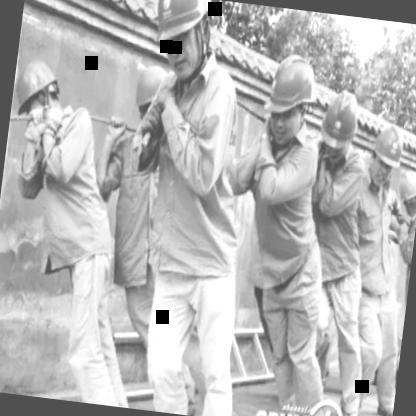helmet: (145, 0, 216, 84), (260, 46, 318, 148), (8, 52, 68, 136), (312, 89, 362, 170), (130, 61, 168, 132), (366, 120, 406, 185), (392, 168, 416, 218)
